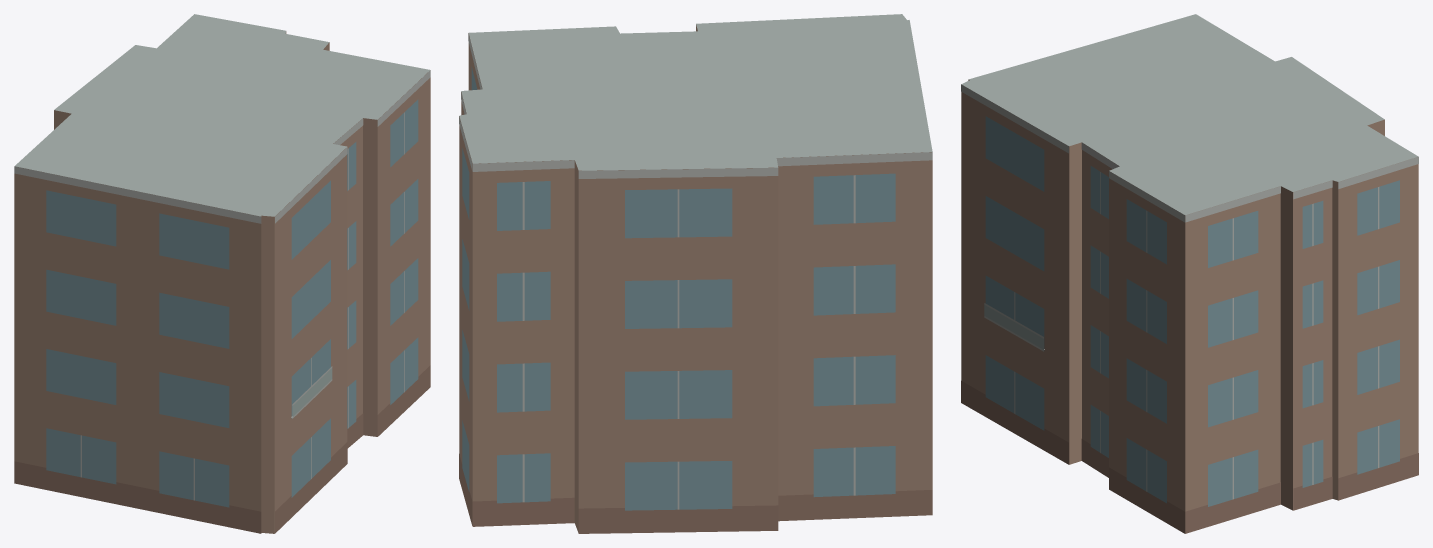
Rendered from survey-upis-33037311.glb.
The picture shows the model from 3 angles, left to right: view 1: azimuth 30°, elevation 25°; view 2: azimuth 150°, elevation 25°; view 3: azimuth 270°, elevation 25°; orthographic projection. The views are drawn at different scales.
Visible parts, largest first — view 1: survey-upis-33037311.tmp; view 2: survey-upis-33037311.tmp; view 3: survey-upis-33037311.tmp.
Part boxes in pixels (<box>): survey-upis-33037311.tmp: <box>14,14,430,533</box>; survey-upis-33037311.tmp: <box>459,14,932,533</box>; survey-upis-33037311.tmp: <box>961,14,1418,533</box>.
Bounding box in the file's own units: 14.37 × 10.6 × 13.8.
